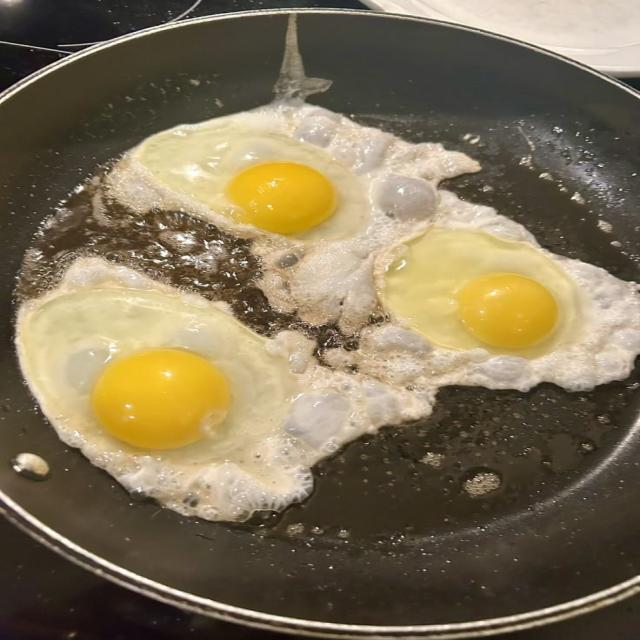fryed egg: (16, 259, 433, 519), (107, 101, 479, 331), (360, 192, 639, 390), (134, 117, 367, 239), (380, 228, 582, 357)
